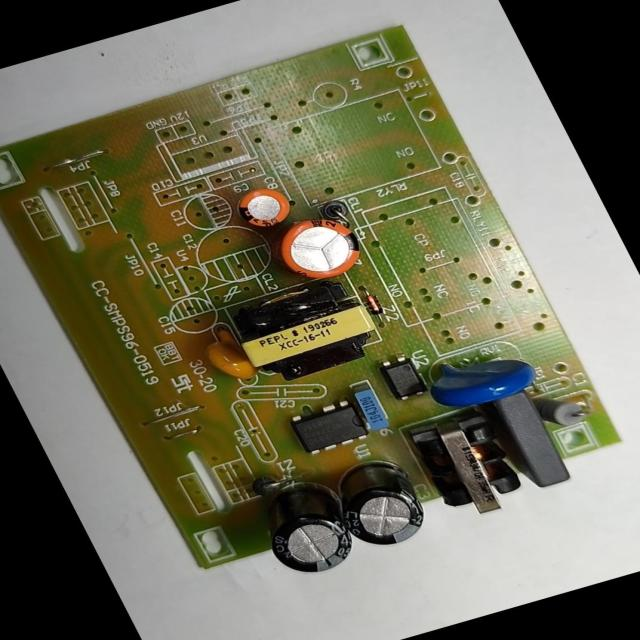Cap1: (262, 205, 376, 291)
Cap2: (229, 181, 301, 235)
Cap3: (319, 451, 442, 555)
Cap4: (245, 476, 365, 583)
MOSFET: (282, 394, 374, 460)
Mov: (417, 338, 546, 416)
Resistor: (530, 384, 594, 434)
Transformer: (225, 278, 392, 392), (404, 411, 537, 528)
